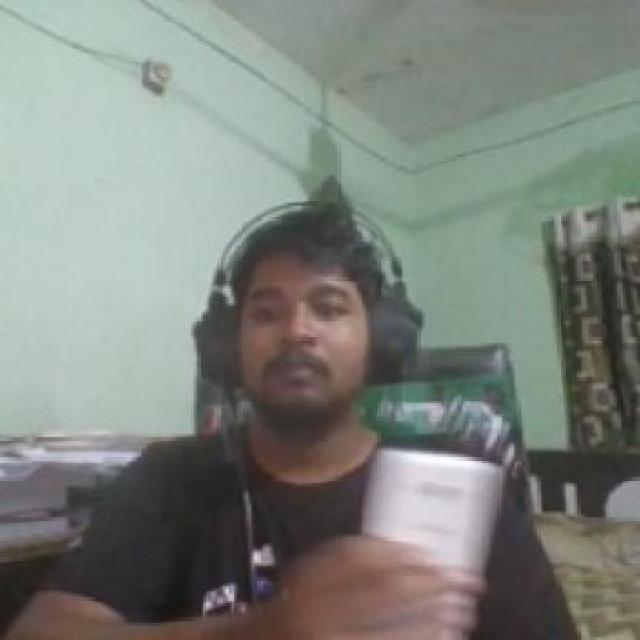Phone: (366, 448, 504, 640)
